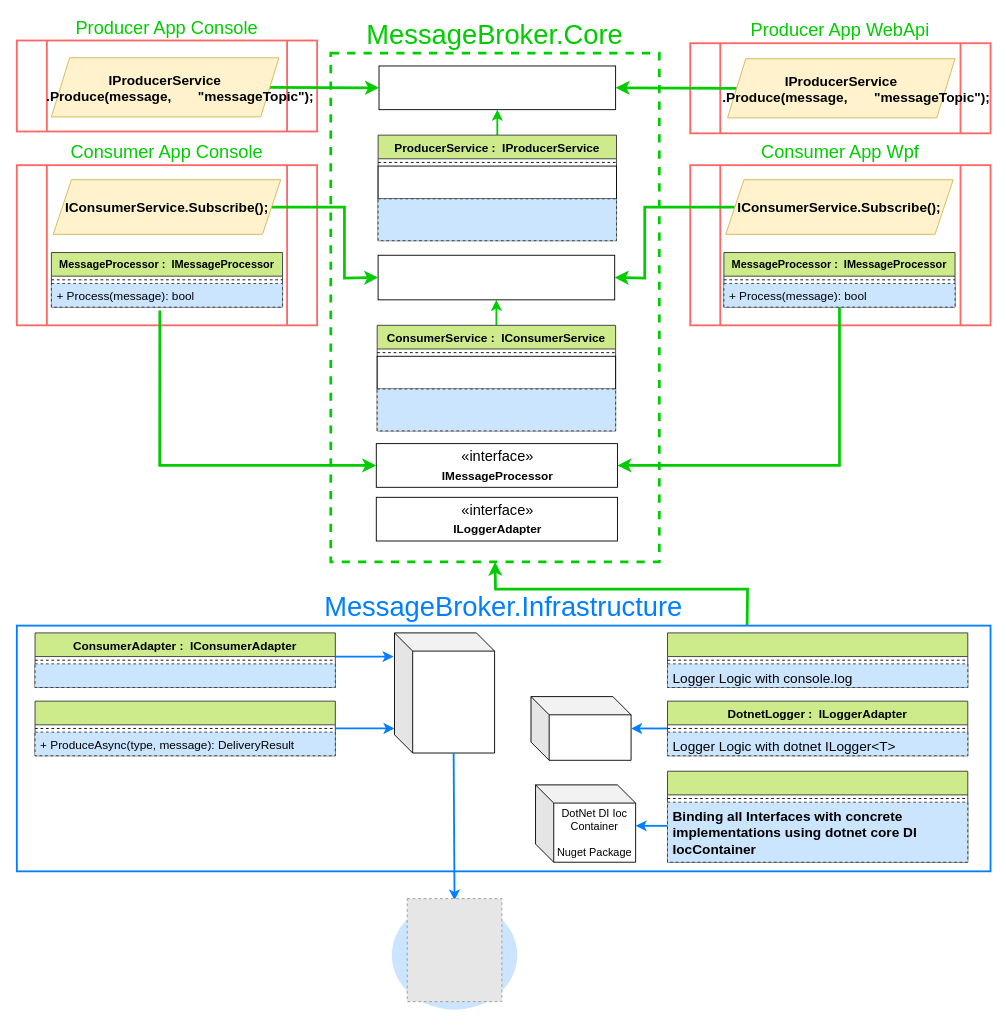
Some shapes in this 1006 by 1025 pixel diagram are drawn without their labels. Grey dashed boxes stand in for pictures. The shapes that lost their labels are listed below. From the top down, each one's box as (x1, y1, x2, y2) in pixels, then its label:
(378, 65, 616, 110): «interface» IProducerService
(377, 165, 617, 199): «interface» IProducerAdapter
(377, 198, 617, 241): + Produce(MessageModel message, string topic): DeliveryResultModel
(377, 254, 615, 300): «interface» IConsumerService
(376, 355, 616, 389): «interface» IConsumerAdapter
(376, 388, 616, 431): + Subscribe(topic, cancellationToken): void
(34, 663, 335, 688): + Consume(cancellationToken): ConsumeResult
(667, 632, 968, 688): ConsoleLogger : ILoggerAdapter
(394, 632, 495, 753): Confluent.Kafka Nuget Package
(34, 700, 335, 756): ProducerAdapter : IProducerAdapter
(530, 696, 631, 760): DotNet Logger Nuget Package
(667, 770, 968, 862): ServicesCollectionExtension
